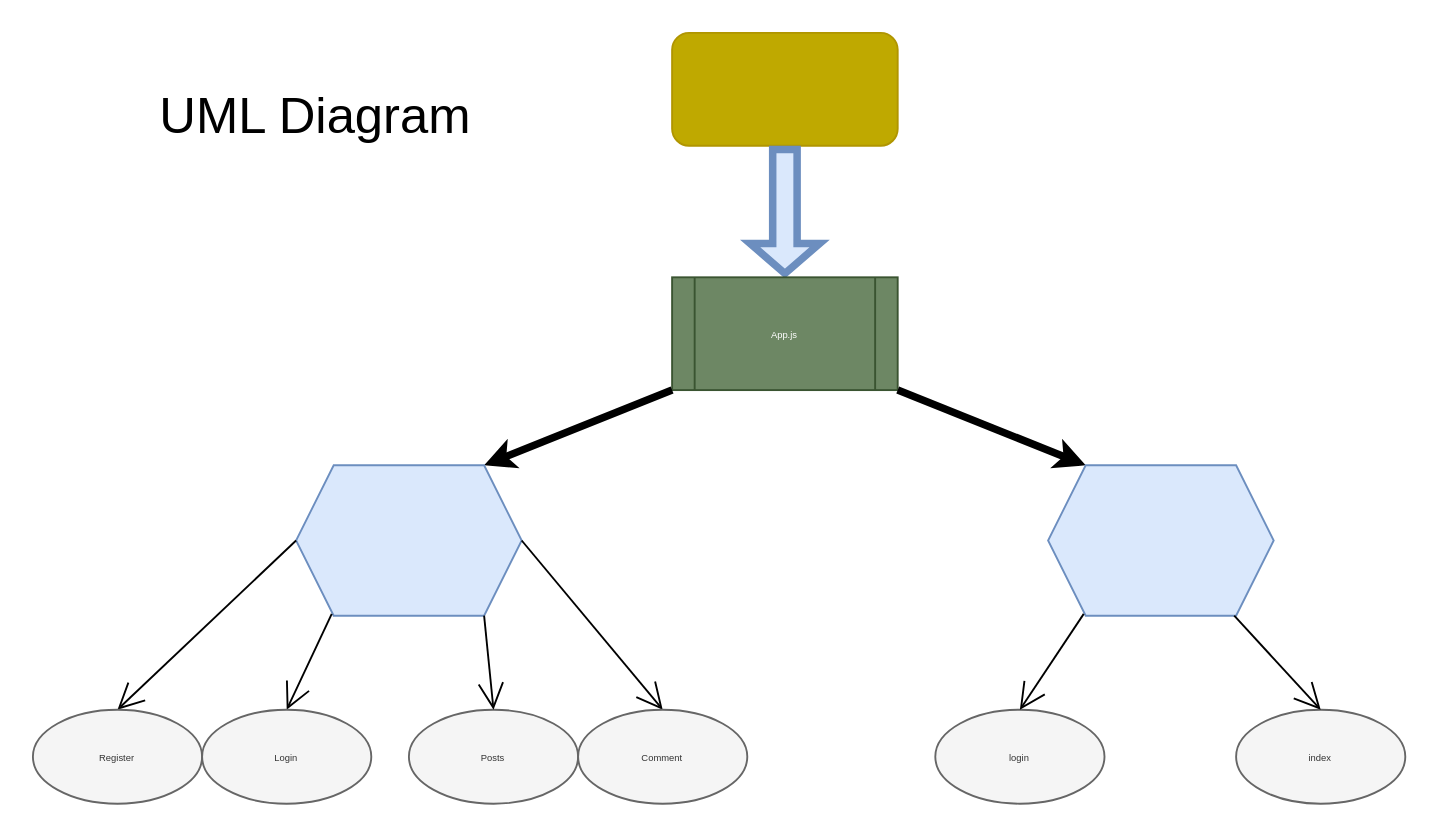
Image size: 1438x837. Some labels were removed from this diagram. The centre of each missing label's shape, as x and y in pixels:
Component: (408,539)
Index.js: (784,88)
Reducers: (1160,539)
